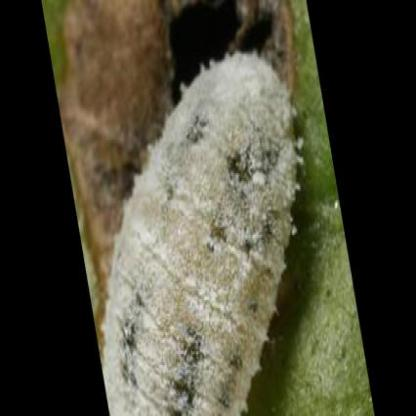mealy bug: (105, 54, 298, 414)
